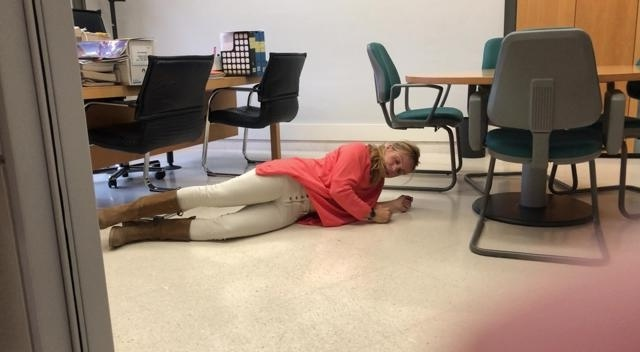fall: (99, 127, 432, 250)
